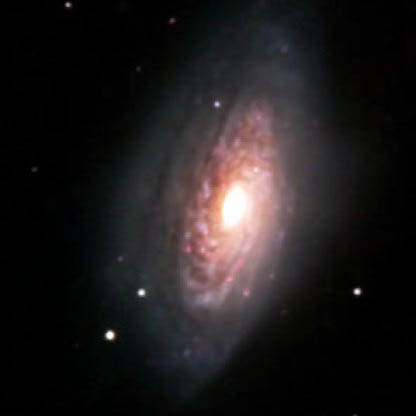NGC 3521: (90, 14, 361, 368)
